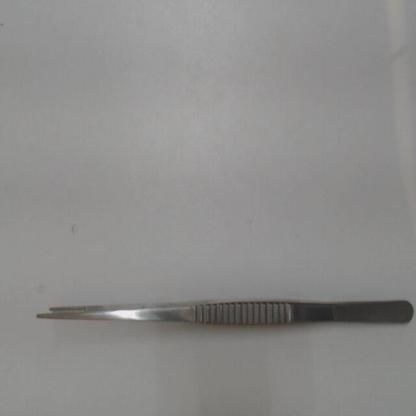DeBakey Dissector: (23, 281, 410, 334)
